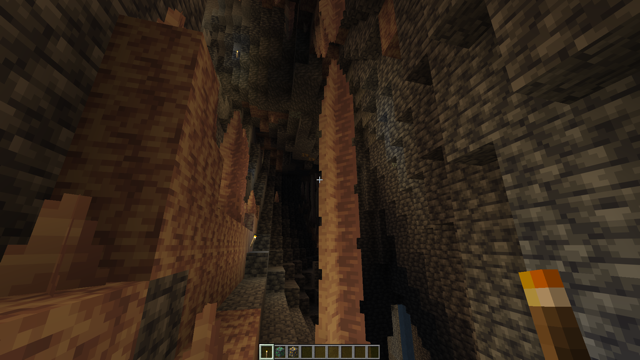gold: (302, 150, 315, 162)
